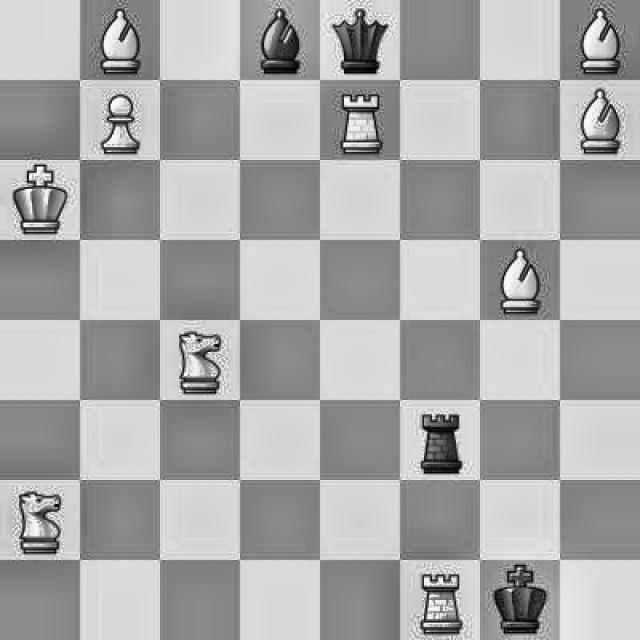black bishop: (246, 2, 312, 78)
black king: (481, 562, 551, 638)
black queen: (320, 0, 392, 77)
black rook: (402, 401, 478, 479)
white bishop: (567, 79, 634, 155), (565, 0, 630, 76), (92, 2, 152, 82), (492, 242, 552, 316)
white king: (7, 162, 72, 236)
white pawn: (92, 90, 154, 158)
white rook: (331, 75, 386, 157), (404, 570, 468, 636)
whiteknight: (168, 325, 236, 398), (16, 485, 68, 557)
